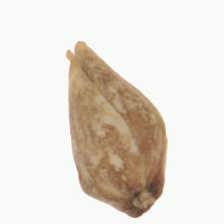L1: (125, 184, 167, 219), (65, 39, 87, 73)
L2: (66, 40, 167, 218)
